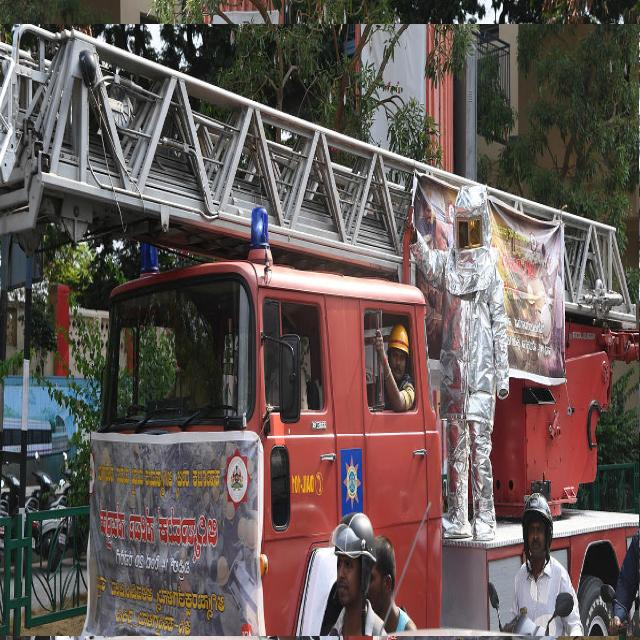emergency: (0, 25, 639, 636)
